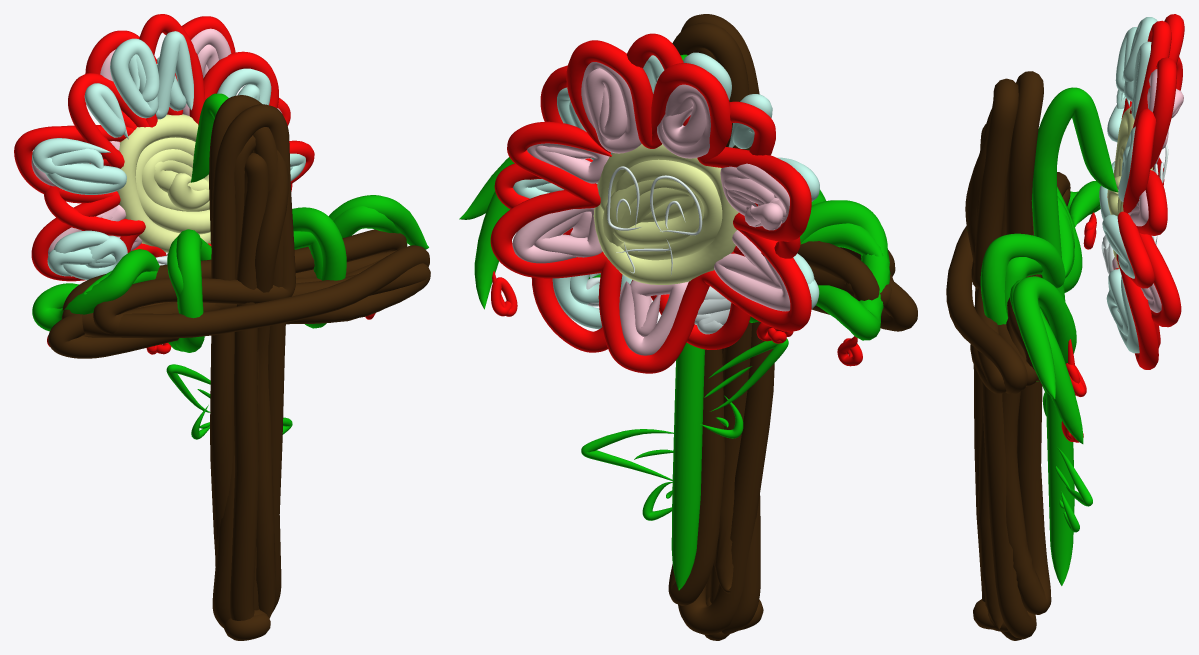
Rendered from flowercross.glb.
3 renders of one model, left to right at view 1: azimuth 30°, elevation 25°; view 2: azimuth 150°, elevation 25°; view 3: azimuth 270°, elevation 25°, orthographic. The views are drawn at different scales.
Parts seen in each view (by area): view 1: flowercross; view 2: flowercross; view 3: flowercross.
Boxes of the visible parts, bbox=[...] form: flowercross: bbox=[14, 14, 430, 640]; flowercross: bbox=[459, 14, 917, 640]; flowercross: bbox=[946, 14, 1184, 640].
Bounding box in the file's own units: 0.9062 × 1.29 × 0.4573.
1 material, 1 textured.
